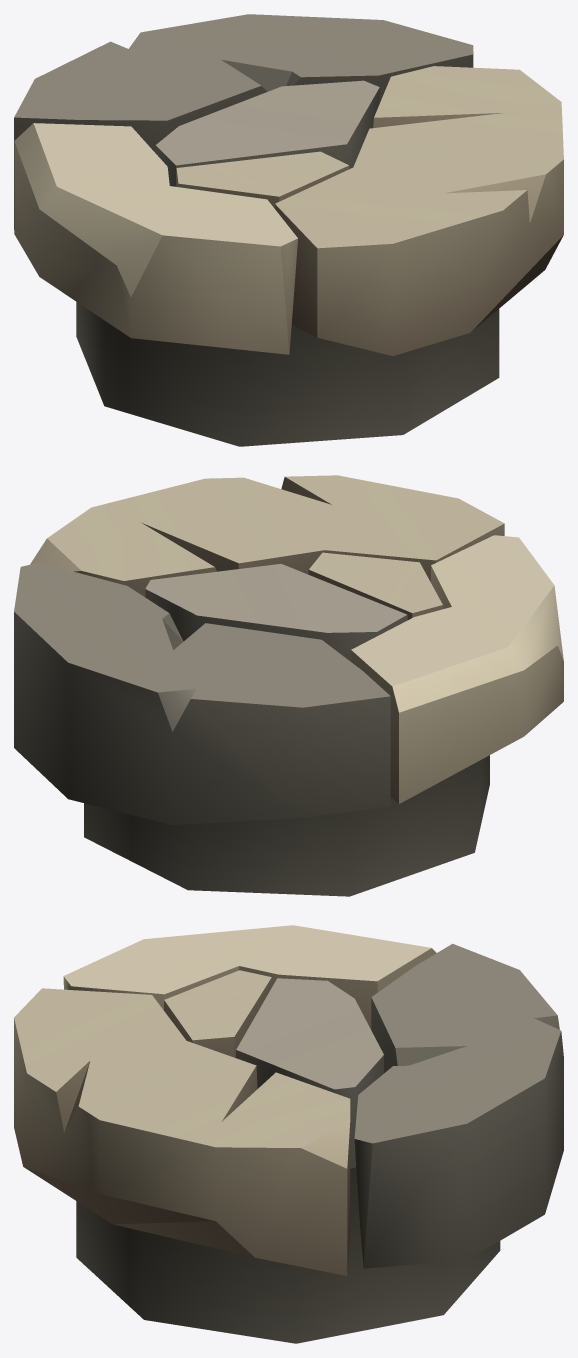
File: Rock_Shrine_1B.fbx
3 renders of one model, top to bottom at view 1: azimuth 30°, elevation 25°; view 2: azimuth 150°, elevation 25°; view 3: azimuth 270°, elevation 25°, orthographic. The views are drawn at different scales.
Parts seen in each view (by area): view 1: Rock_Shrine_1B; view 2: Rock_Shrine_1B; view 3: Rock_Shrine_1B.
Part boxes in pixels (x1,y1,x2,y2): Rock_Shrine_1B: [14, 14, 563, 446]; Rock_Shrine_1B: [14, 475, 563, 896]; Rock_Shrine_1B: [14, 925, 563, 1343].
Size of the model in its own units: 2.48 by 1.1 by 2.49.
